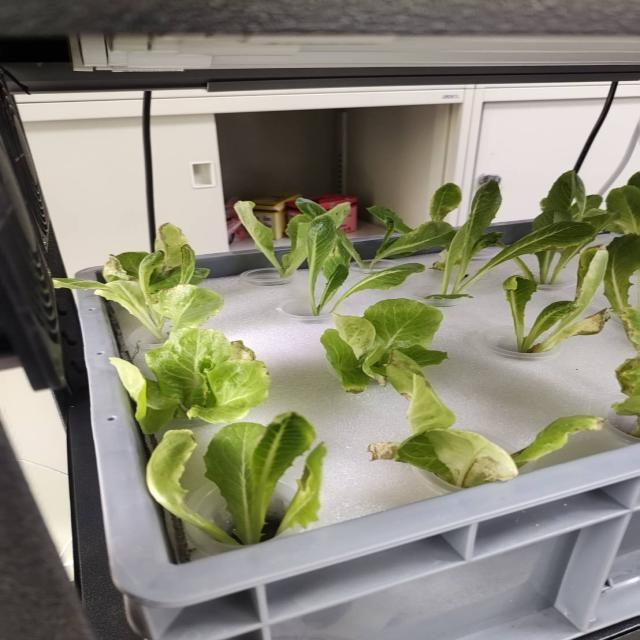Lettuce-Not-Ready-to-Harvest: (368, 351, 603, 488), (147, 412, 325, 545), (440, 180, 597, 299), (110, 328, 270, 433), (320, 299, 447, 392), (503, 246, 608, 352), (338, 182, 462, 269), (53, 279, 223, 340), (233, 198, 350, 278), (103, 224, 205, 297), (605, 234, 640, 435), (532, 170, 613, 231), (328, 264, 425, 312), (307, 215, 352, 315), (515, 245, 584, 284), (607, 172, 640, 236)
